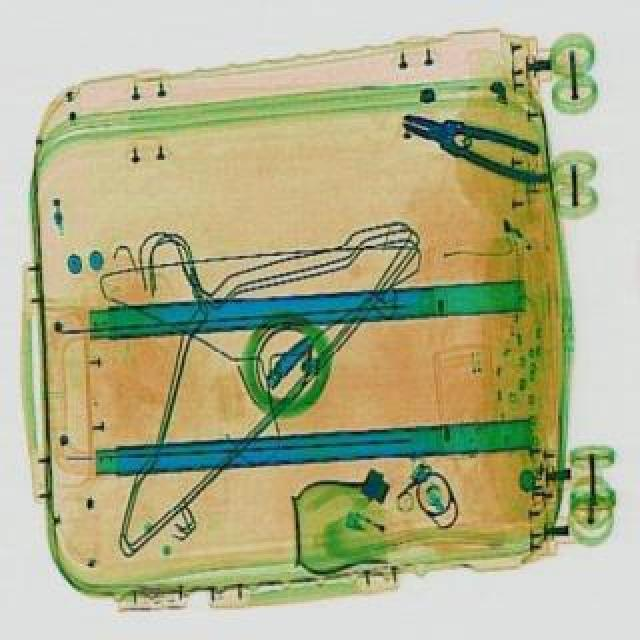wrench: (396, 98, 558, 186)
